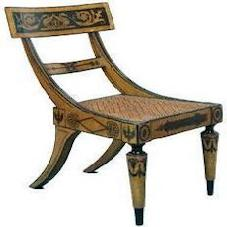chair: (1, 2, 223, 222), (1, 2, 155, 87), (1, 2, 25, 22)
